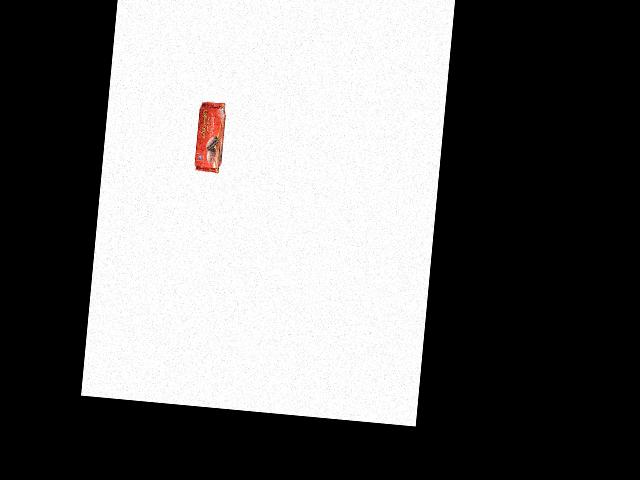chocolate: (193, 100, 233, 175)
